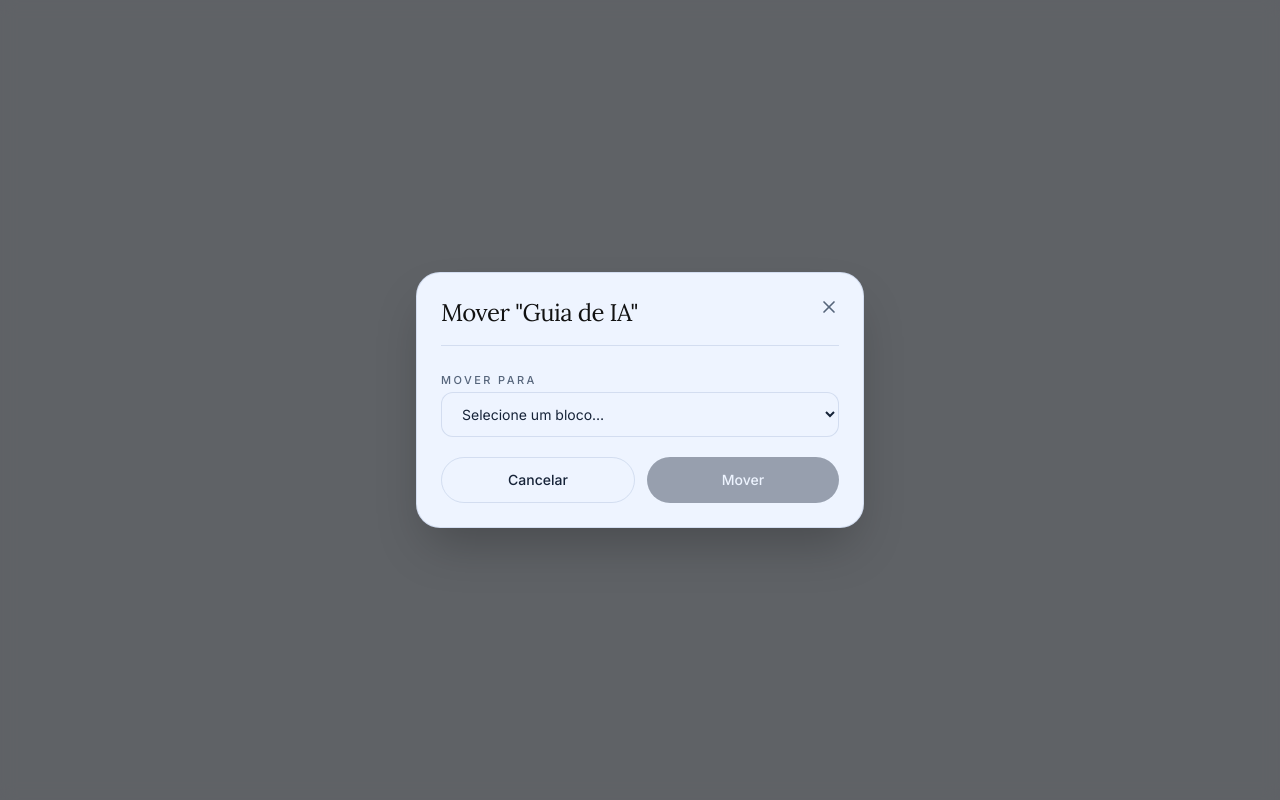
Scenario: MoveContentModal › mostra o select de Tema ao escolher Biblioteca como destino
Select "Biblioteca" in the dropdown labelled "Mover para" at (640, 414), box [441, 392, 839, 437]
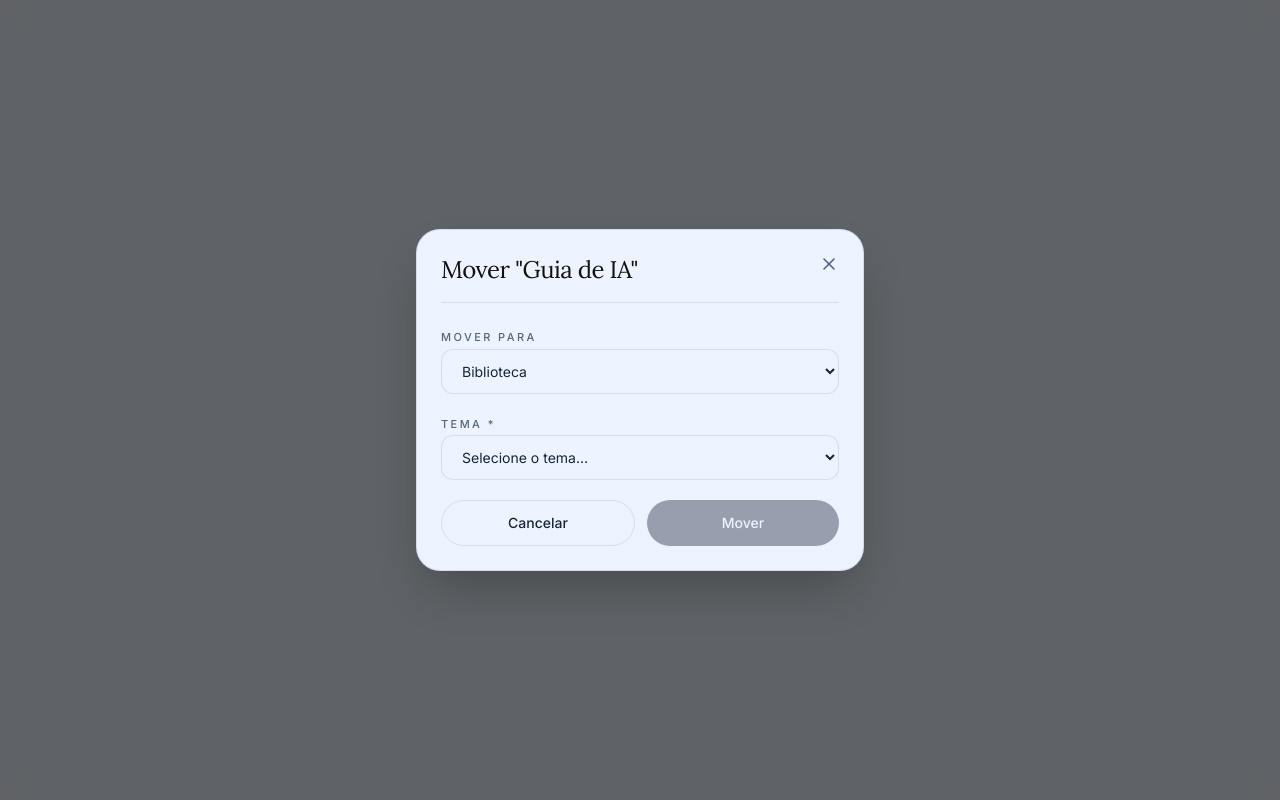
expect the text "Tema *" is shown: met, box [441, 416, 496, 430]
